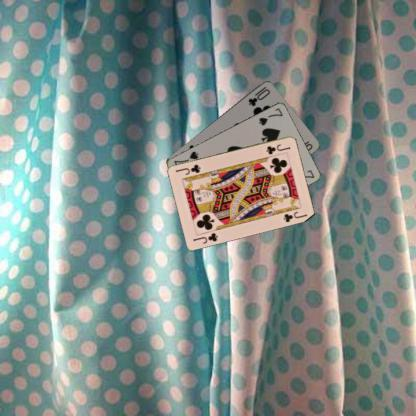10c: (245, 84, 272, 107)
7s: (256, 105, 284, 127)
Jc: (191, 230, 220, 245), (263, 141, 292, 155)
